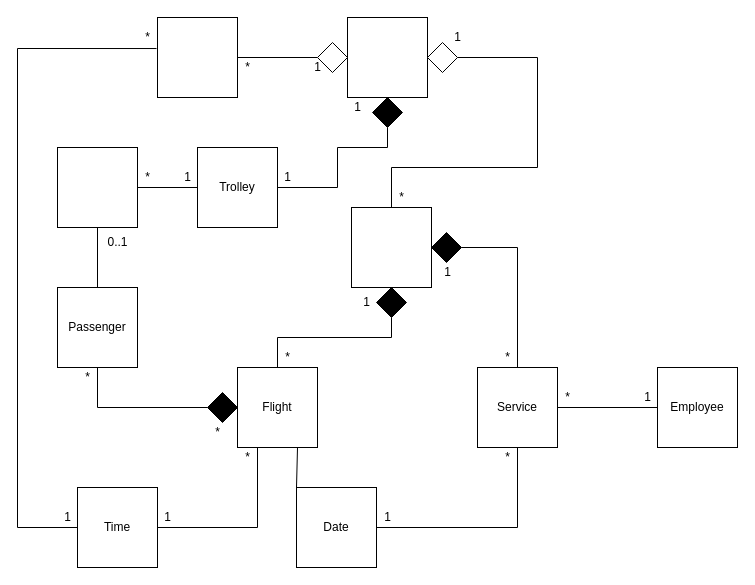
Image size: 755x585. Some labels were removed from this diagram. The shapes that lost their labels are listed below. From the top down, each one's centre as x and y in pixels, then its label:
[197,57]: GroundTrans portation
[387,57]: Airport
[97,187]: Luggage
[391,247]: Plane
